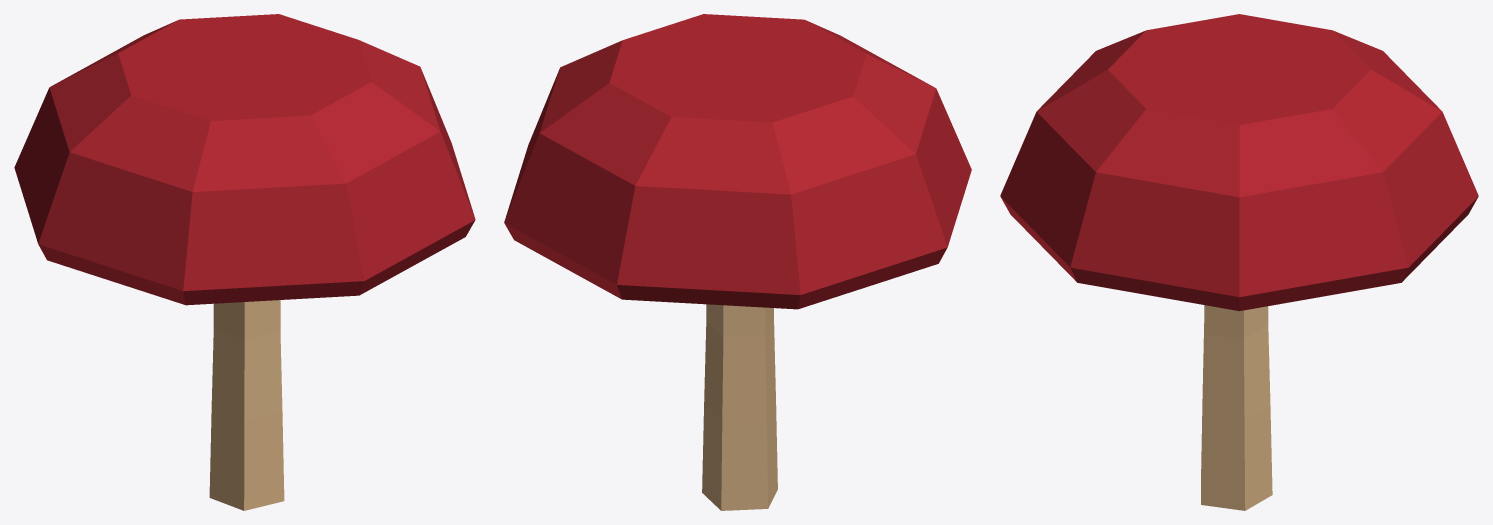
File: mushroom1.fbx
3 views of the same model, side by side, from view 1: azimuth 30°, elevation 25°; view 2: azimuth 150°, elevation 25°; view 3: azimuth 270°, elevation 25° (orthographic).
Parts seen in each view (by area): view 1: Head, Stem; view 2: Head, Stem; view 3: Head, Stem.
Boxes of the visible parts, x1,y1,x2,y2 form: Head: [14, 14, 475, 305]; Stem: [209, 300, 284, 510]; Head: [504, 14, 971, 309]; Stem: [702, 304, 777, 510]; Head: [1000, 14, 1478, 311]; Stem: [1201, 305, 1272, 510].
Bounding box in the file's own units: 33.95 × 33.29 × 33.95.
